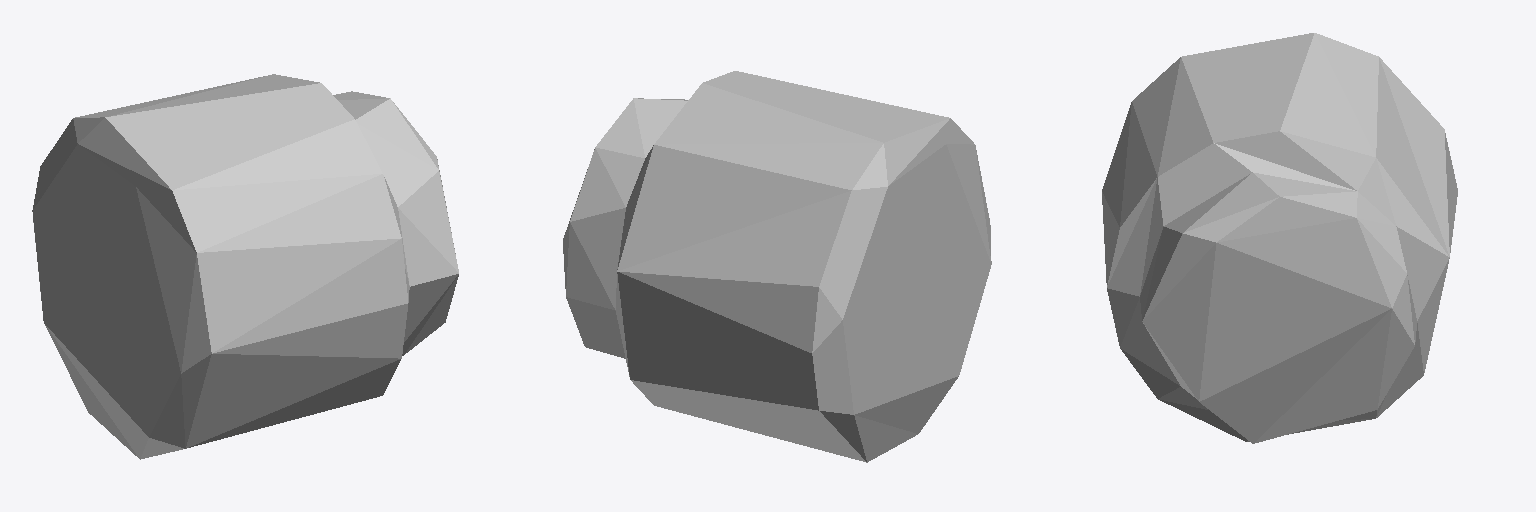
File: rueda-derecha.obj
3 renders of one model, left to right at view 1: azimuth 30°, elevation 25°; view 2: azimuth 150°, elevation 25°; view 3: azimuth 270°, elevation 25°, orthographic.
Visible parts, largest first — view 1: polySurface2211 MicroscopeFBXASC046003; view 2: polySurface2211 MicroscopeFBXASC046003; view 3: polySurface2211 MicroscopeFBXASC046003.
Boxes of the visible parts, <box> form: polySurface2211 MicroscopeFBXASC046003: <box>32,74,458,459</box>; polySurface2211 MicroscopeFBXASC046003: <box>563,71,991,462</box>; polySurface2211 MicroscopeFBXASC046003: <box>1102,33,1457,443</box>.
Size of the model in its own units: 0.2668 by 0.2707 by 0.276.